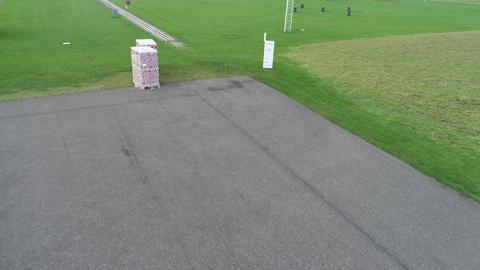RockwoolPallet: (135, 37, 157, 48)
